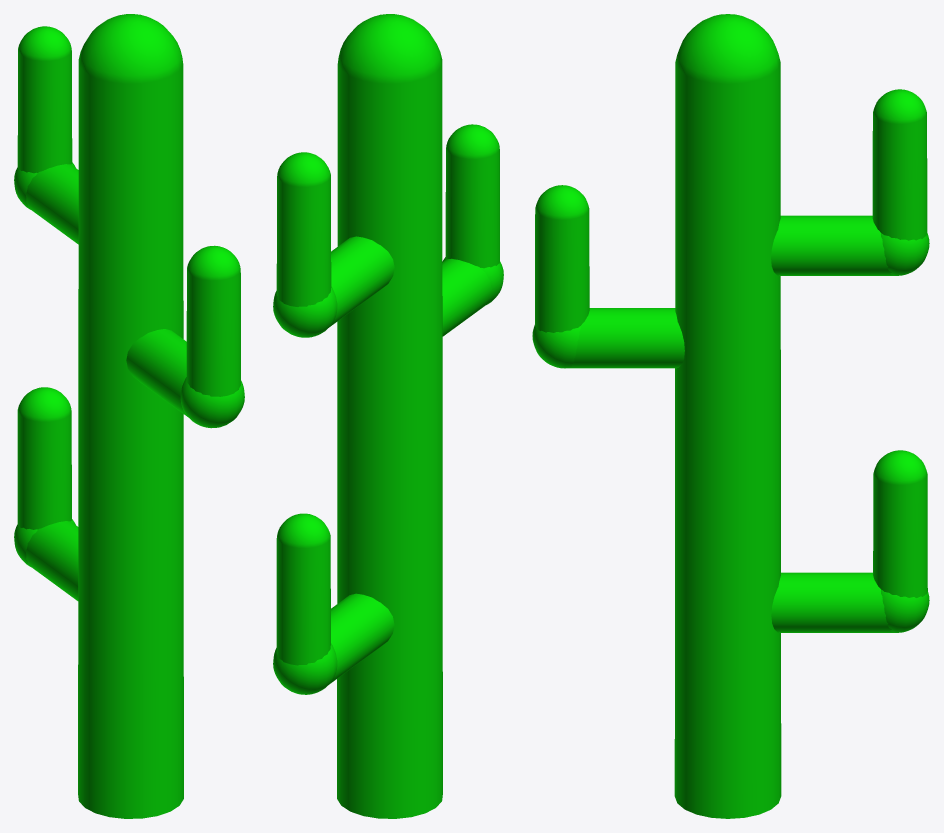
File: cactus01.fbx
3 renders of one model, left to right at view 1: azimuth 30°, elevation 25°; view 2: azimuth 150°, elevation 25°; view 3: azimuth 270°, elevation 25°, orthographic.
Visible parts, largest first — view 1: pSphere12; view 2: pSphere12; view 3: pSphere12.
Part boxes in pixels (bbox=[...]): pSphere12: bbox=[14, 14, 244, 818]; pSphere12: bbox=[273, 14, 503, 818]; pSphere12: bbox=[532, 14, 929, 818].
Size of the model in its own units: 1.89 by 15.27 by 7.06.
